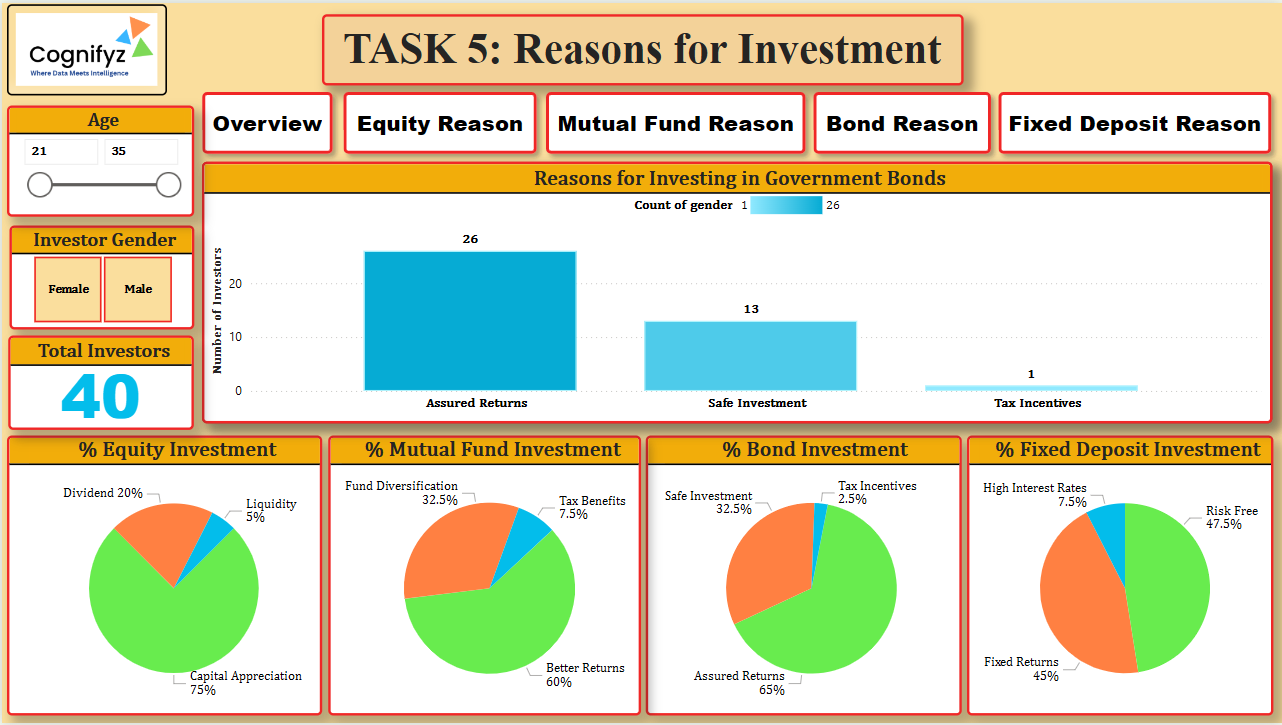

The dashboard page shown, as its layout file describes it:
{"tool":"powerbi","page":{"name":"Task 5","canvas":[1280,720],"ordinal":9},"visuals":[{"type":"image","box":[5,1.2,160,91],"z":0},{"type":"textbox","box":[319.4,11.1,641.4,71.3],"z":1000},{"type":"pieChart","title":"% Equity Investment","fields":{"Category":["Data_set 2.Reason_Equity"],"Y":["CountNonNull(Data_set 2.Reason_Equity)"]},"box":[4.8,433.1,314.9,279.9],"z":2000},{"type":"actionButton","title":"Equity","box":[333,79.6,211.1,79.6],"z":3000},{"type":"actionButton","title":"Overview","box":[191.8,79.6,148.4,79.6],"z":4000},{"type":"actionButton","title":"Mutual Fund","box":[534.5,79.6,277.5,79.6],"z":5000},{"type":"actionButton","title":"Bond","box":[802.3,79.6,195.4,79.6],"z":6000},{"type":"actionButton","title":"FD","box":[988.1,79.6,290.8,79.6],"z":7000},{"type":"pieChart","title":"% Bond Investment","fields":{"Category":["Data_set 2.Reason_Bonds"],"Y":["CountNonNull(Data_set 2.Reason_Bonds)"]},"box":[644.2,433.1,316.1,279.9],"z":8000},{"type":"pieChart","title":"% Fixed Deposit Investment","fields":{"Category":["Data_set 2.Reason_FD"],"Y":["CountNonNull(Data_set 2.Reason_FD)"]},"box":[965.2,433.1,306.4,279.9],"z":9000},{"type":"pieChart","title":"% Mutual Fund Investment","fields":{"Category":["Data_set 2.Reason_Mutual"],"Y":["CountNonNull(Data_set 2.Reason_Mutual)"]},"box":[325.7,433.1,312.5,279.9],"z":10000},{"type":"columnChart","title":"Reasons for Investing in Fixed Deposits","fields":{"Y":["CountNonNull(Data_set 2.gender)"],"Category":["Data_set 2.Reason_FD"]},"box":[200.3,159.3,1070.1,261.8],"z":11000},{"type":"slicer","title":"Investor Gender","fields":{"Values":["Data_set 2.gender"]},"box":[7.2,222,184.6,103.8],"z":15000},{"type":"card","title":"Total Investors","fields":{"Values":["CountNonNull(Data_set 2.gender)"]},"box":[6,333,185.8,94.1],"z":16000},{"type":"slicer","title":"Age","fields":{"Values":["Data_set 2.age"]},"box":[4.8,102.5,187,111],"z":17000},{"type":"clusteredBarChart","title":"Preferred Investment Avenues","fields":{"Y":["CountNonNull(Data_set 2.gender)"],"Category":["Data_set 2.Avenue"]},"box":[200.3,159.3,1070.1,261.8],"z":18000}]}

Visuals, with their boxes in screenshot pixels (x1, y1, x2, y2), scaled from the page's 1280x720 canvas onto the 1282x725 screenshot:
image: (left=5, top=1, right=165, bottom=93)
textbox: (left=320, top=11, right=962, bottom=83)
"% Equity Investment" pieChart: (left=5, top=436, right=320, bottom=718)
"Equity" actionButton: (left=334, top=80, right=545, bottom=160)
"Overview" actionButton: (left=192, top=80, right=341, bottom=160)
"Mutual Fund" actionButton: (left=535, top=80, right=813, bottom=160)
"Bond" actionButton: (left=804, top=80, right=999, bottom=160)
"FD" actionButton: (left=990, top=80, right=1281, bottom=160)
"% Bond Investment" pieChart: (left=645, top=436, right=962, bottom=718)
"% Fixed Deposit Investment" pieChart: (left=967, top=436, right=1274, bottom=718)
"% Mutual Fund Investment" pieChart: (left=326, top=436, right=639, bottom=718)
"Reasons for Investing in Fixed Deposits" columnChart: (left=201, top=160, right=1272, bottom=424)
"Investor Gender" slicer: (left=7, top=224, right=192, bottom=328)
"Total Investors" card: (left=6, top=335, right=192, bottom=430)
"Age" slicer: (left=5, top=103, right=192, bottom=215)
"Preferred Investment Avenues" clusteredBarChart: (left=201, top=160, right=1272, bottom=424)
